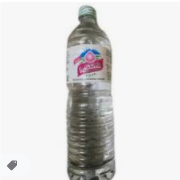Bottle: (66, 5, 115, 180)
